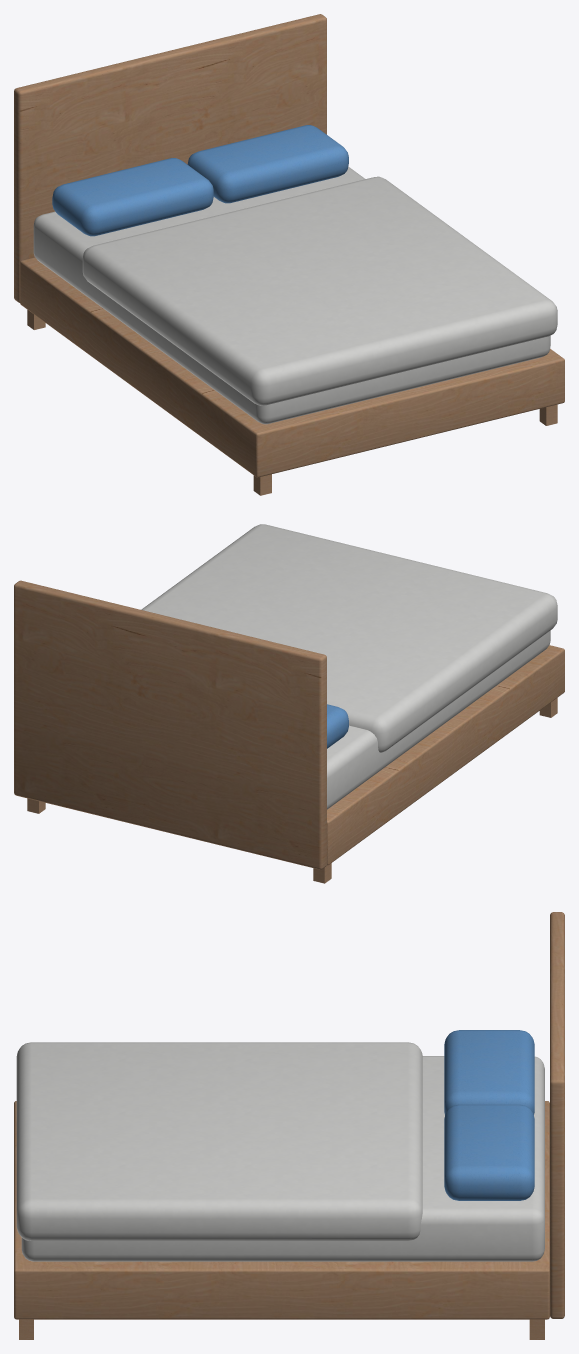
Rendered from bed_queen.glb.
3 views of the same model, one above another, from view 1: azimuth 30°, elevation 25°; view 2: azimuth 150°, elevation 25°; view 3: azimuth 270°, elevation 25° (orthographic). The views are drawn at different scales.
Parts seen in each view (by area): view 1: bed_queen; view 2: bed_queen; view 3: bed_queen.
Part boxes in pixels (box(x1,y1,x2,y2)): bed_queen: box(14, 14, 564, 495); bed_queen: box(14, 524, 564, 883); bed_queen: box(14, 912, 564, 1339).
Size of the model in its own units: 1.6 by 1.15 by 2.19.
3 materials, 3 textured.
